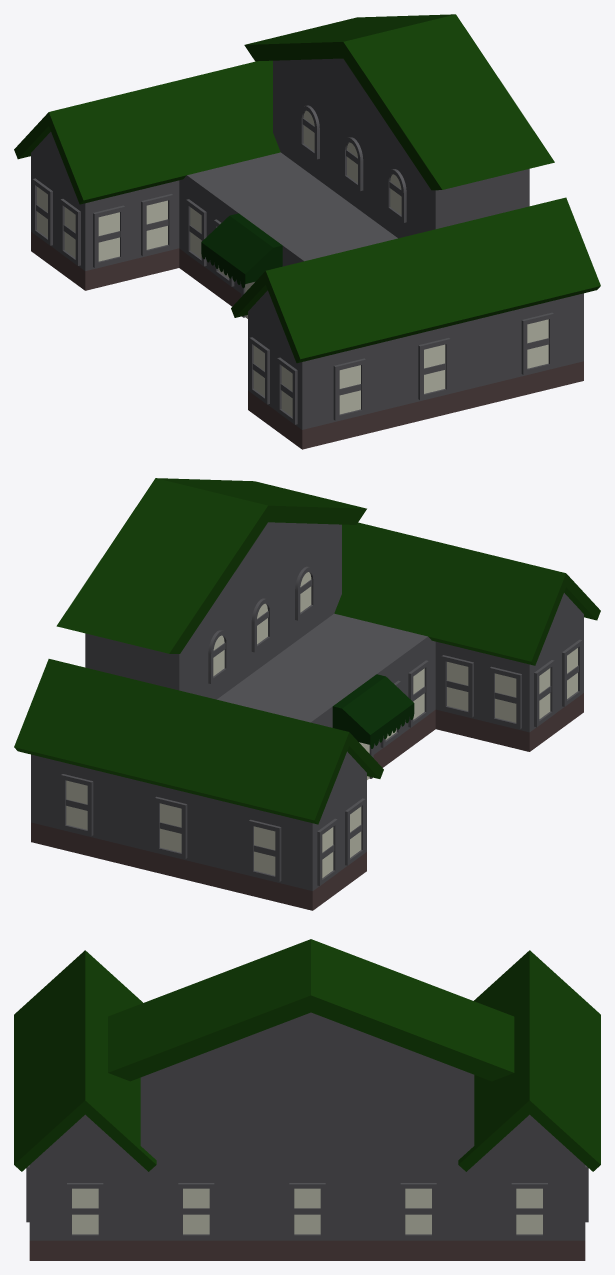
The model's file is library.fbx.
3 renders of one model, top to bottom at view 1: azimuth 30°, elevation 25°; view 2: azimuth 150°, elevation 25°; view 3: azimuth 270°, elevation 25°, orthographic. The views are drawn at different scales.
Visible parts, largest first — view 1: mergedBlocks; view 2: mergedBlocks; view 3: mergedBlocks.
Boxes of the visible parts, x1,y1,x2,y2 form: mergedBlocks: (14,14,600,449); mergedBlocks: (14,478,600,910); mergedBlocks: (14,939,600,1260).
Bounding box in the file's own units: 32 × 26.84 × 52.83.
